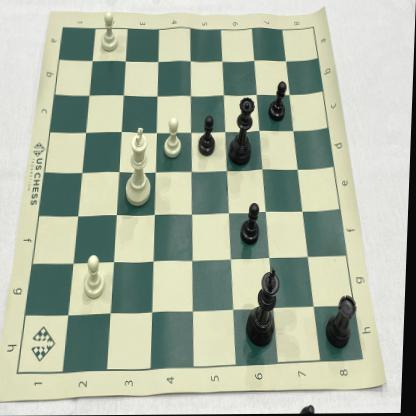black-king: (246, 264, 284, 353)
black-pawn: (238, 198, 265, 250), (265, 77, 291, 126), (196, 114, 220, 161)
black-queen: (225, 93, 258, 172)
black-rook: (323, 290, 361, 353)
white-king: (122, 125, 159, 209)
white-pawn: (80, 251, 110, 300), (95, 9, 123, 55), (161, 113, 185, 162)
